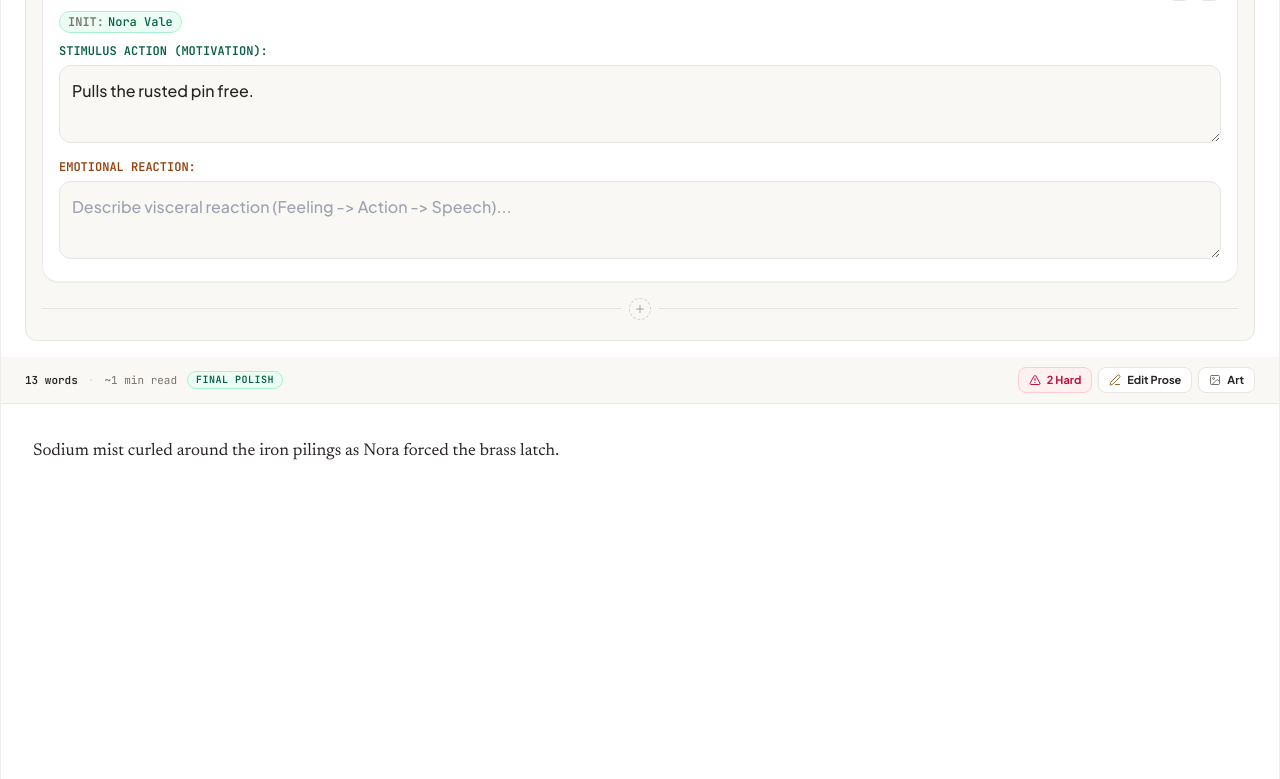
Test case: Phase 5F: WriterView and PipelineView › handles WriterView Manuscript Slop Audit drawer, Allowlist, Surgical Clean, and Inline Serif Editor
The width and height of the screenshot is (1280, 779).
Later steps or results of the test are not shown.
(page scrolled)
Click the button with test id "writer-slop-badge" at (1055, 380), box [1018,367,1092,393]
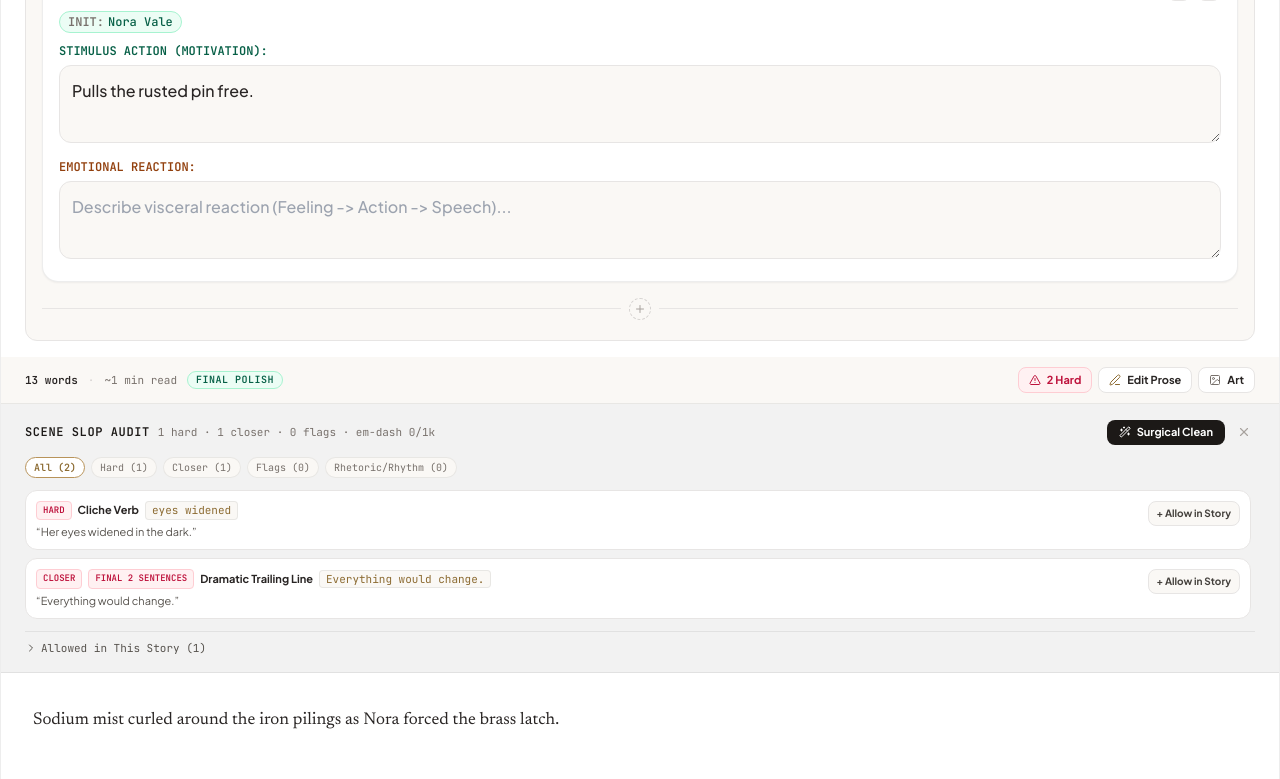
Expected: the element with test id "writer-slop-drawer" is shown, [1,404,1279,673]
Expected: the element with test id "writer-slop-drawer" shows "eyes widened", [152,503,231,517]
Filter to Closer only
Click the button "Closer (1)" at (202, 467), box [163,456,241,477]
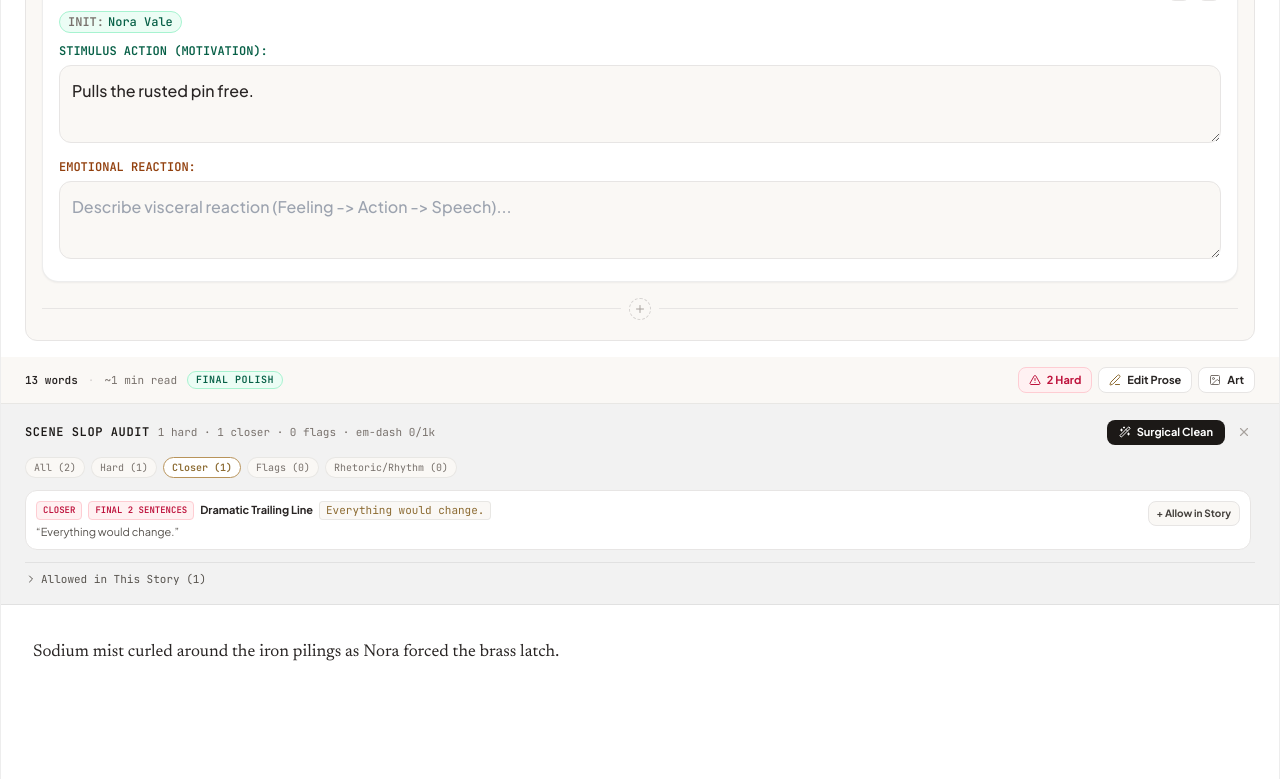
Expected: the element with test id "writer-slop-drawer" shows "Everything would change.", [326,503,484,517]
Expected: the text with test id "writer-slop-drawer" no longer shows "eyes widened"
